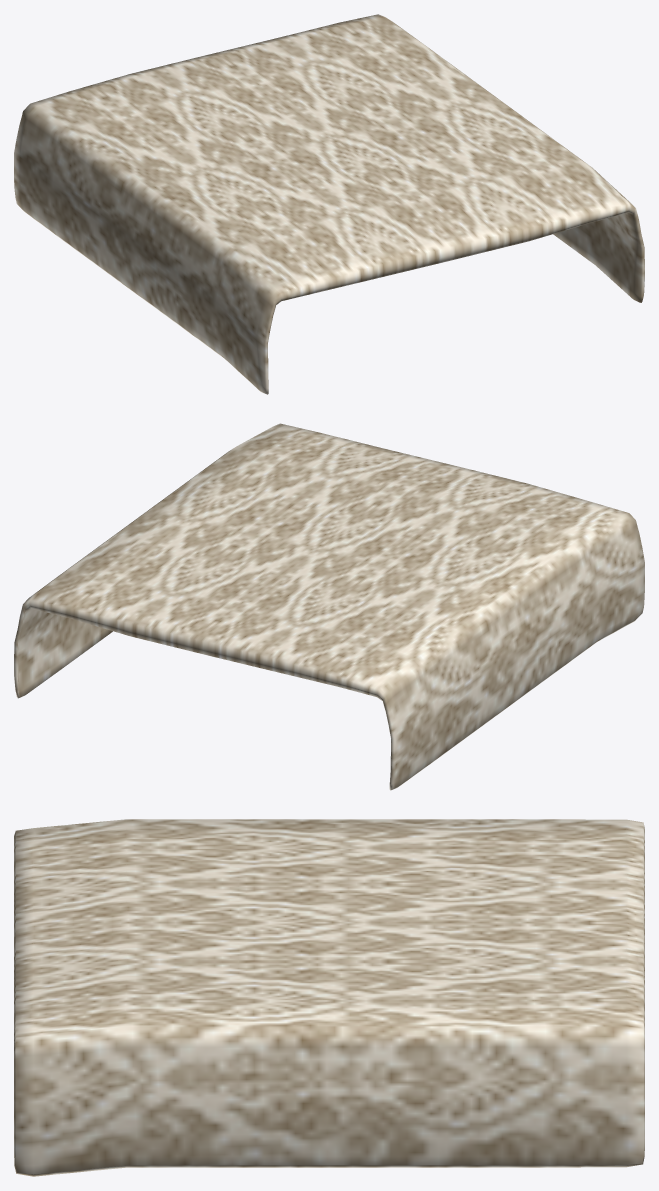
The model's file is boles_bedhseet.fbx.
3 renders of one model, top to bottom at view 1: azimuth 30°, elevation 25°; view 2: azimuth 150°, elevation 25°; view 3: azimuth 270°, elevation 25°, orthographic. The views are drawn at different scales.
Visible parts, largest first — view 1: boles_bedhseet; view 2: boles_bedhseet; view 3: boles_bedhseet.
Boxes of the visible parts, x1,y1,x2,y2 form: boles_bedhseet: [14, 14, 644, 394]; boles_bedhseet: [14, 423, 644, 790]; boles_bedhseet: [14, 819, 644, 1176].
Size of the model in its own units: 1.83 by 0.5293 by 2.09.
